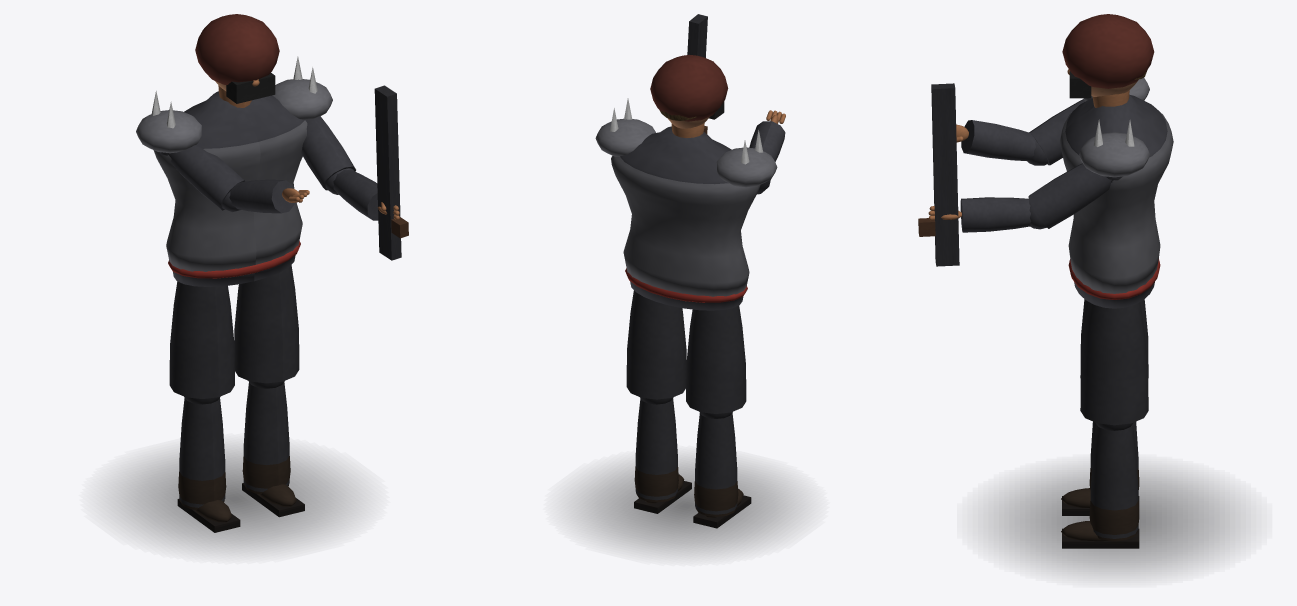
Rendered from enemy_heavy.glb.
The picture shows the model from 3 angles, left to right: view 1: azimuth 30°, elevation 25°; view 2: azimuth 150°, elevation 25°; view 3: azimuth 270°, elevation 25°; orthographic projection. The views are drawn at different scales.
Visible parts, largest first — view 1: chest, object 11, legL, legR, shinL, shinR, head, foreR, armL, foreL, armR; view 2: chest, object 11, legL, legR, shinL, shinR, head, foreL, foreR; view 3: chest, object 11, legR, foreR, shinR, head, armR, foreL, armL, shinL, legL.
Part boxes in pixels (x1,y1,x2,y2): chest: (136, 56, 332, 286); object 11: (111, 446, 357, 550); legL: (169, 281, 234, 398); legR: (234, 265, 299, 383); shinL: (177, 396, 240, 532); shinR: (242, 381, 304, 516); head: (195, 14, 279, 103); foreR: (325, 85, 408, 260); armL: (159, 145, 244, 210); foreL: (222, 179, 309, 213); armR: (301, 116, 355, 190); chest: (595, 98, 777, 310); object 11: (572, 458, 800, 553); legL: (686, 305, 746, 413); legR: (626, 290, 686, 399); shinL: (693, 412, 751, 528); shinR: (634, 397, 691, 513); head: (650, 54, 728, 128); foreL: (749, 110, 785, 161); foreR: (687, 14, 707, 134); chest: (1060, 77, 1173, 308); object 11: (988, 468, 1240, 574); legR: (1080, 302, 1148, 425); foreR: (918, 83, 1046, 266); shinR: (1061, 422, 1139, 548); head: (1062, 14, 1154, 98); armR: (1028, 163, 1122, 228); foreL: (956, 120, 1048, 165); armL: (1029, 99, 1084, 165); shinL: (1061, 421, 1139, 515); legL: (1080, 299, 1148, 377).
Size of the model in its own units: 1.15 by 1.91 by 1.25.
6 materials, 5 textured.
